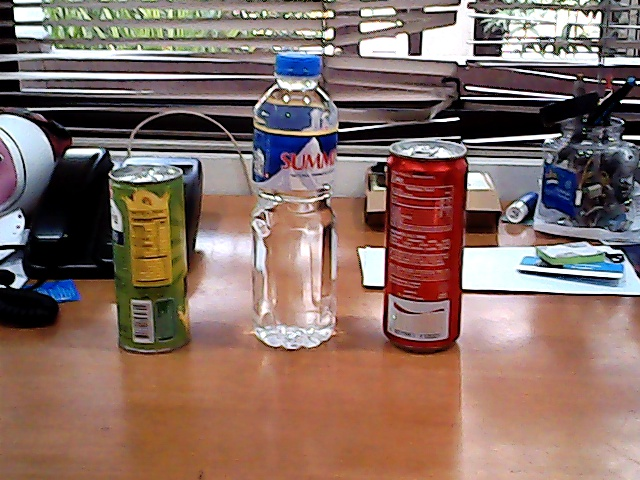Cola: (371, 129, 494, 358)
Pine Juice: (104, 160, 196, 365)
Summit Water: (240, 47, 352, 359)
